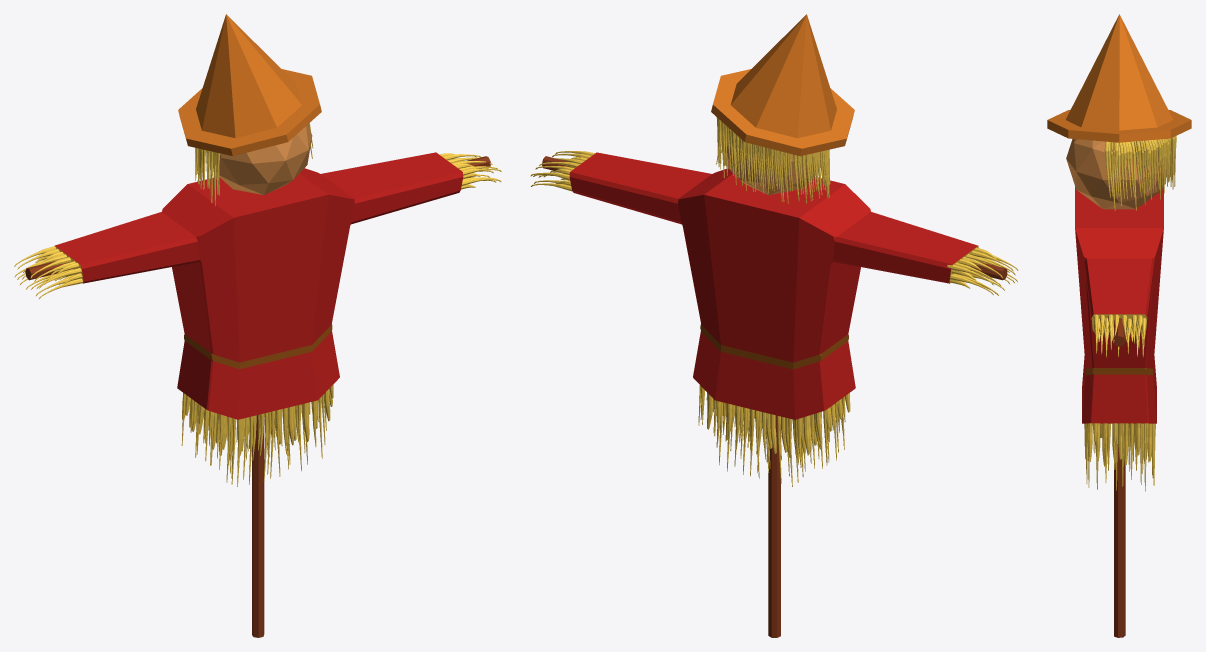
Rendered from Espantapajaros.fbx.
The picture shows the model from 3 angles, left to right: view 1: azimuth 30°, elevation 25°; view 2: azimuth 150°, elevation 25°; view 3: azimuth 270°, elevation 25°; orthographic projection. The views are drawn at different scales.
Visible parts, largest first — view 1: Cylinder.230; view 2: Cylinder.230; view 3: Cylinder.230.
Boxes of the visible parts, x1,y1,x2,y2 form: Cylinder.230: (14, 14, 501, 637); Cylinder.230: (530, 14, 1018, 637); Cylinder.230: (1047, 14, 1191, 637).
Size of the model in its own units: 966 by 1253 by 270.
